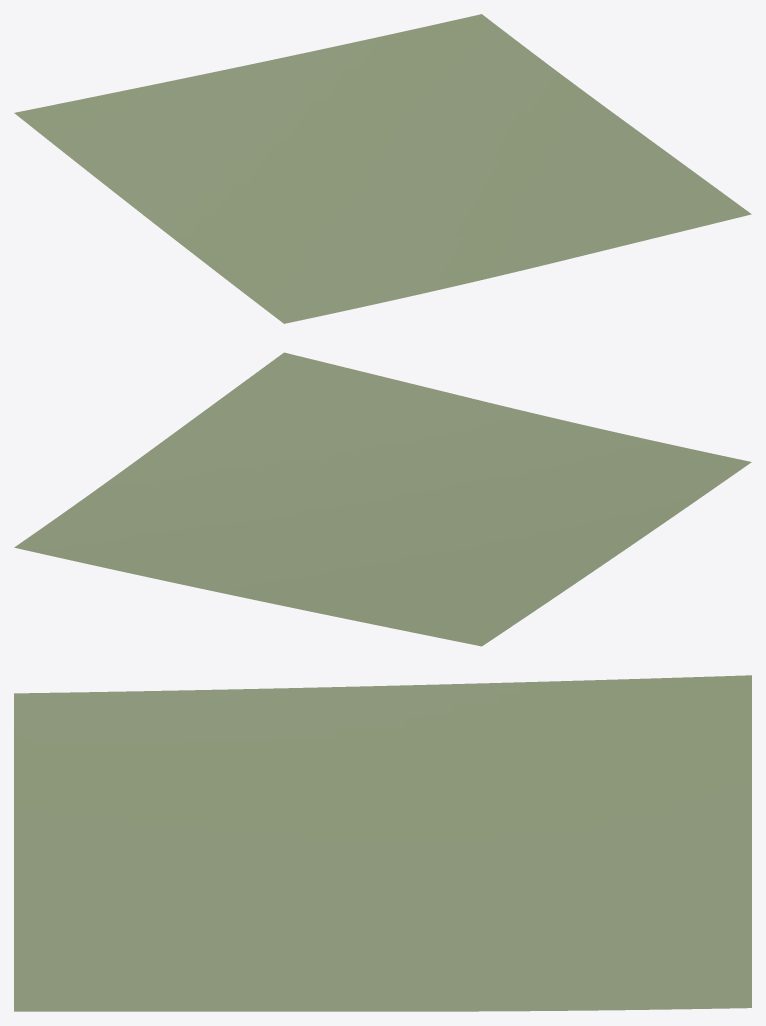
File: desert-3-20.glb
3 renders of one model, top to bottom at view 1: azimuth 30°, elevation 25°; view 2: azimuth 150°, elevation 25°; view 3: azimuth 270°, elevation 25°, orthographic. The views are drawn at different scales.
Parts seen in each view (by area): view 1: desert-3-20; view 2: desert-3-20; view 3: desert-3-20.
Boxes of the visible parts, x1=… form: desert-3-20: x1=14, y1=14, x2=751, y2=323; desert-3-20: x1=14, y1=352, x2=751, y2=646; desert-3-20: x1=14, y1=675, x2=751, y2=1011.
Bounding box in the file's own units: 512 × 18.85 × 512.
